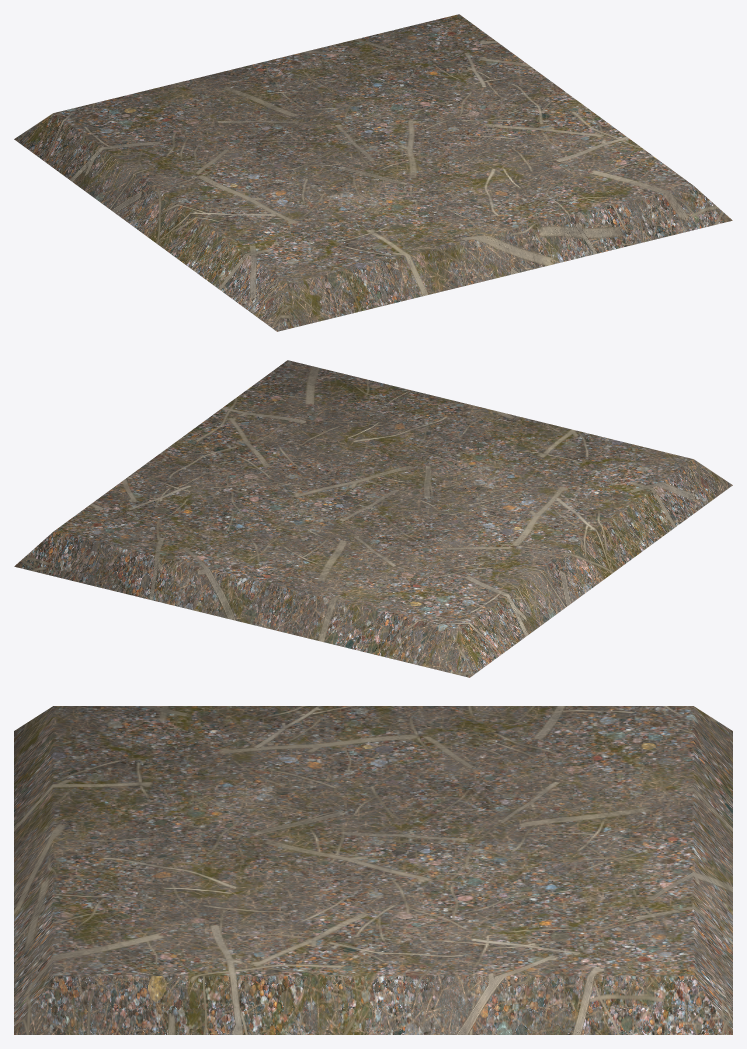
File: MazeFloorHollow.gltf
3 views of the same model, one above another, from view 1: azimuth 30°, elevation 25°; view 2: azimuth 150°, elevation 25°; view 3: azimuth 270°, elevation 25° (orthographic). The views are drawn at different scales.
Parts seen in each view (by area): view 1: Cube; view 2: Cube; view 3: Cube.
Part boxes in pixels (x1,y1,x2,y2): Cube: (14, 14, 732, 331); Cube: (14, 360, 732, 677); Cube: (14, 706, 732, 1034).
Size of the model in its own units: 2.25 by 0.1435 by 2.25.
1 material, 1 textured.
